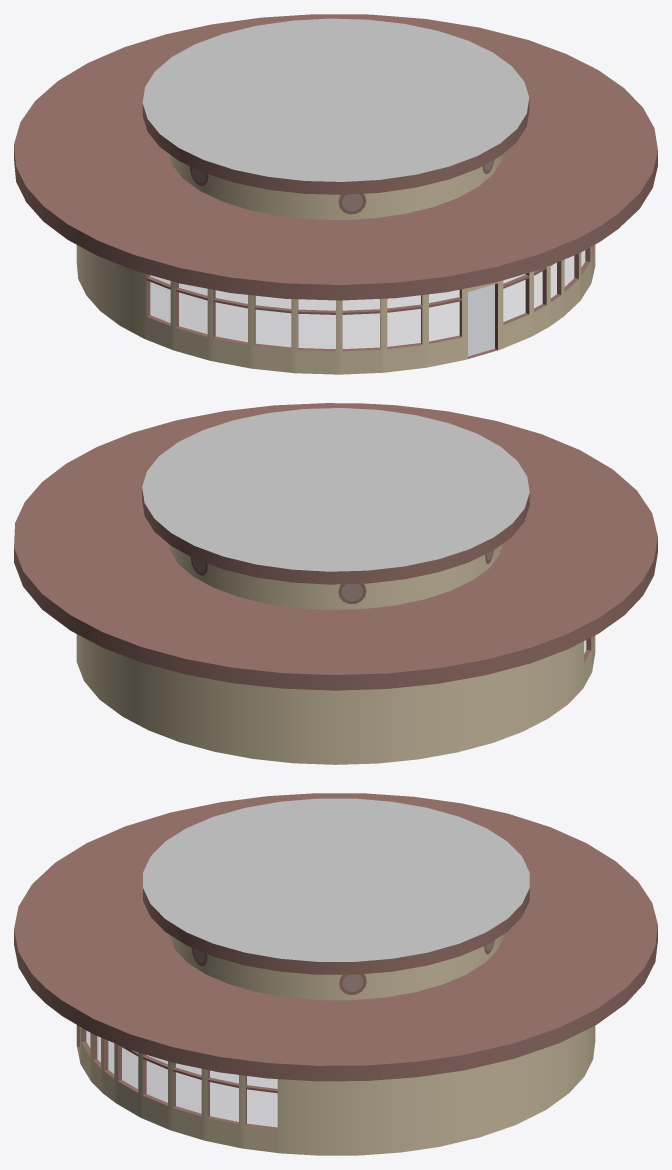
File: exterior.glb
3 renders of one model, top to bottom at view 1: azimuth 30°, elevation 25°; view 2: azimuth 150°, elevation 25°; view 3: azimuth 270°, elevation 25°, orthographic.
Parts seen in each view (by area): view 1: canopy-eave-top, roof-upper, shell, openings, canopy-eave-fascia, shell-upper, trim-upper-fascia, trim-frames, trim-portholes; view 2: canopy-eave-top, roof-upper, shell, canopy-eave-fascia, shell-upper, trim-upper-fascia, trim-portholes; view 3: canopy-eave-top, roof-upper, shell, canopy-eave-fascia, shell-upper, openings, trim-upper-fascia, trim-portholes, trim-frames.
Boxes of the visible parts, x1,y1,x2,y2 form: canopy-eave-top: [14, 14, 657, 284]; roof-upper: [142, 18, 529, 181]; shell: [76, 245, 595, 374]; openings: [146, 245, 594, 358]; canopy-eave-fascia: [14, 146, 657, 300]; shell-upper: [169, 154, 502, 220]; trim-upper-fascia: [142, 99, 529, 194]; trim-frames: [146, 264, 553, 314]; trim-portholes: [190, 160, 494, 214]; canopy-eave-top: [14, 403, 657, 674]; roof-upper: [142, 408, 529, 571]; shell: [76, 634, 595, 764]; canopy-eave-fascia: [14, 538, 657, 690]; shell-upper: [169, 543, 503, 609]; trim-upper-fascia: [142, 487, 529, 584]; trim-portholes: [190, 550, 493, 603]; canopy-eave-top: [14, 793, 657, 1065]; roof-upper: [143, 798, 529, 961]; shell: [76, 1025, 595, 1155]; canopy-eave-fascia: [14, 926, 657, 1081]; shell-upper: [168, 934, 503, 1000]; openings: [77, 1025, 277, 1129]; trim-upper-fascia: [143, 888, 529, 974]; trim-portholes: [191, 940, 494, 994]; trim-frames: [119, 1045, 277, 1093].
Size of the model in its own units: 22.61 by 6.4 by 22.56.
